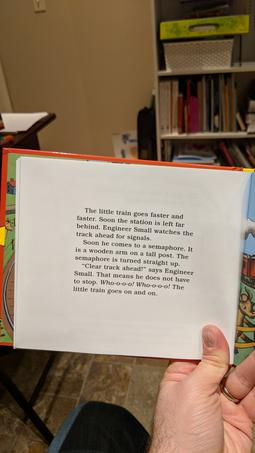text block: (61, 201, 202, 303)
